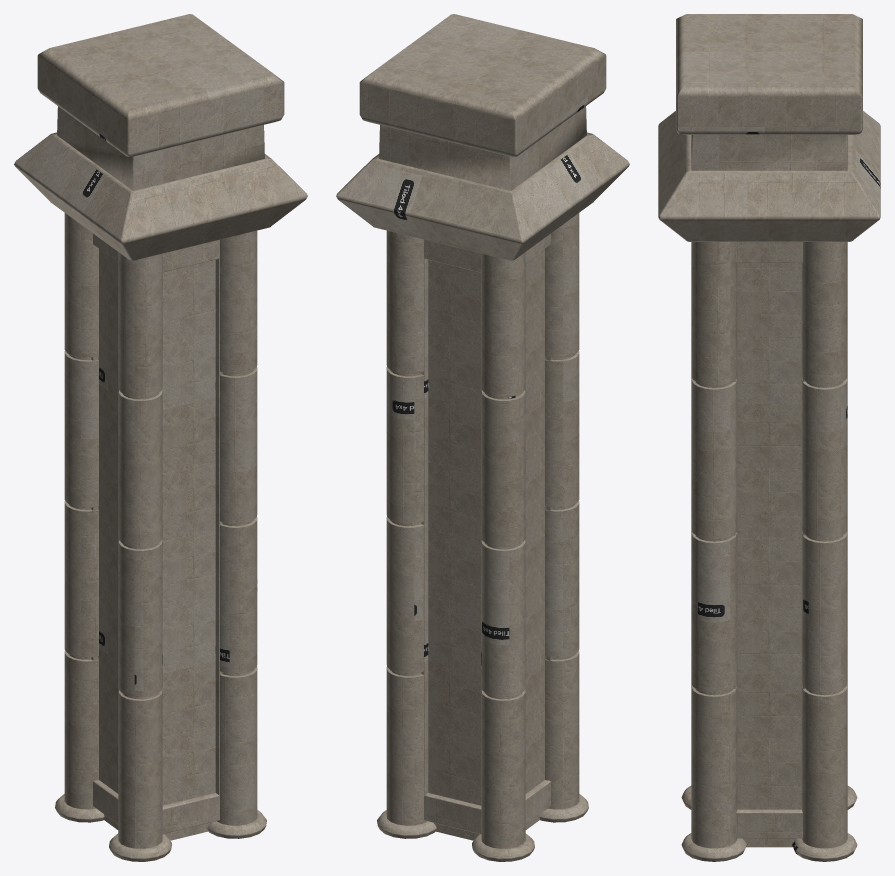
The model's file is cubecolumna.fbx.
3 renders of one model, left to right at view 1: azimuth 30°, elevation 25°; view 2: azimuth 150°, elevation 25°; view 3: azimuth 270°, elevation 25°, orthographic. The views are drawn at different scales.
Visible parts, largest first — view 1: Cube.014; view 2: Cube.014; view 3: Cube.014.
Part boxes in pixels (bbox=[...]): Cube.014: bbox=[14, 14, 307, 861]; Cube.014: bbox=[336, 14, 629, 861]; Cube.014: bbox=[658, 14, 880, 861].
Bounding box in the file's own units: 92.78 × 357 × 92.78.
